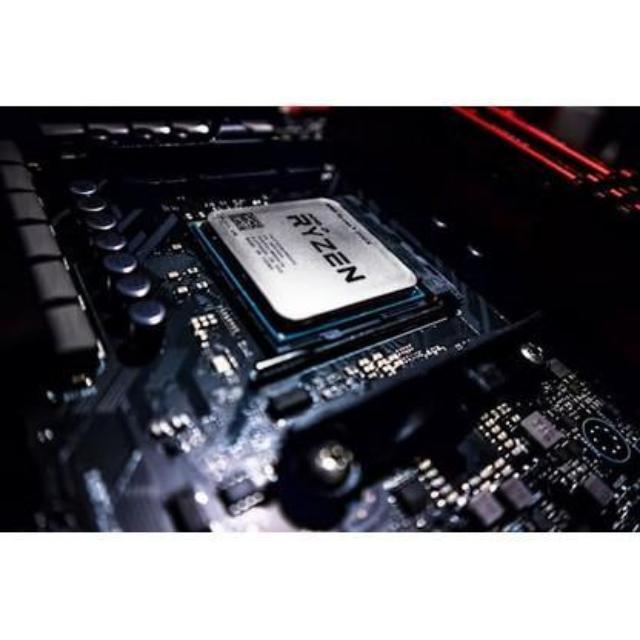CPU: (200, 196, 425, 328)
